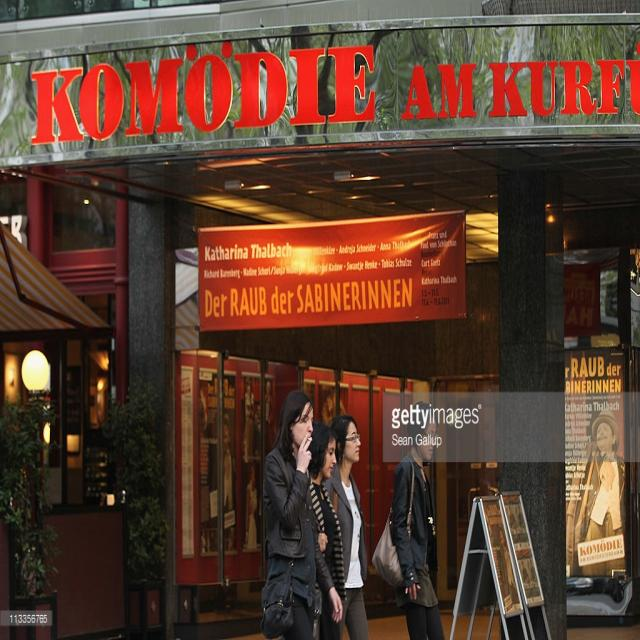body: (477, 403, 639, 613), (258, 388, 344, 639), (194, 370, 272, 555), (389, 399, 446, 640), (324, 413, 374, 640), (306, 423, 347, 640), (65, 168, 121, 247), (314, 383, 347, 427), (630, 249, 640, 347)
